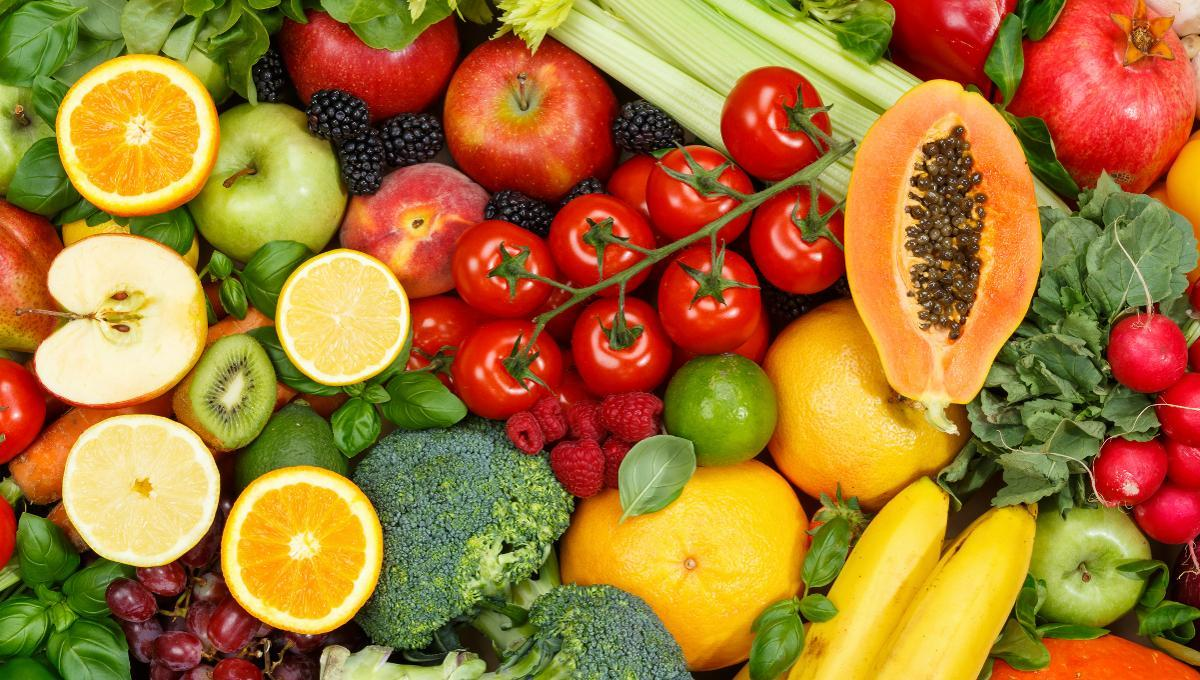apple: (441, 29, 618, 199), (279, 11, 456, 117)
